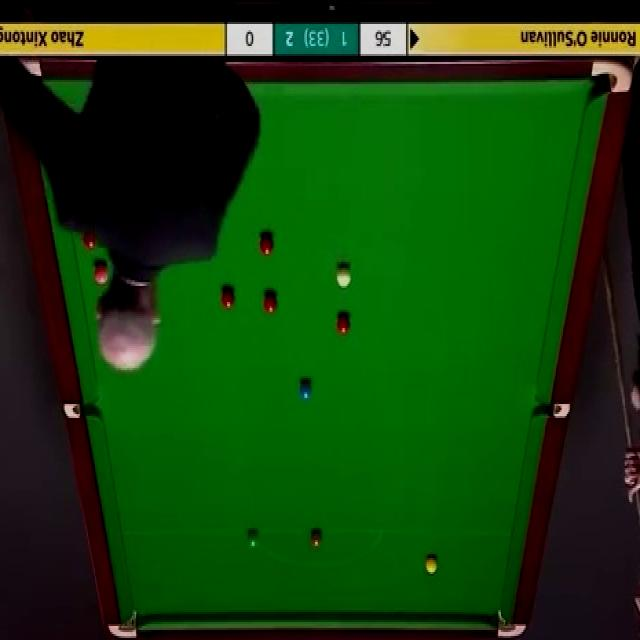pocket: (590, 58, 633, 94), (495, 608, 528, 640), (110, 610, 139, 638), (536, 403, 572, 422), (65, 403, 99, 420)
